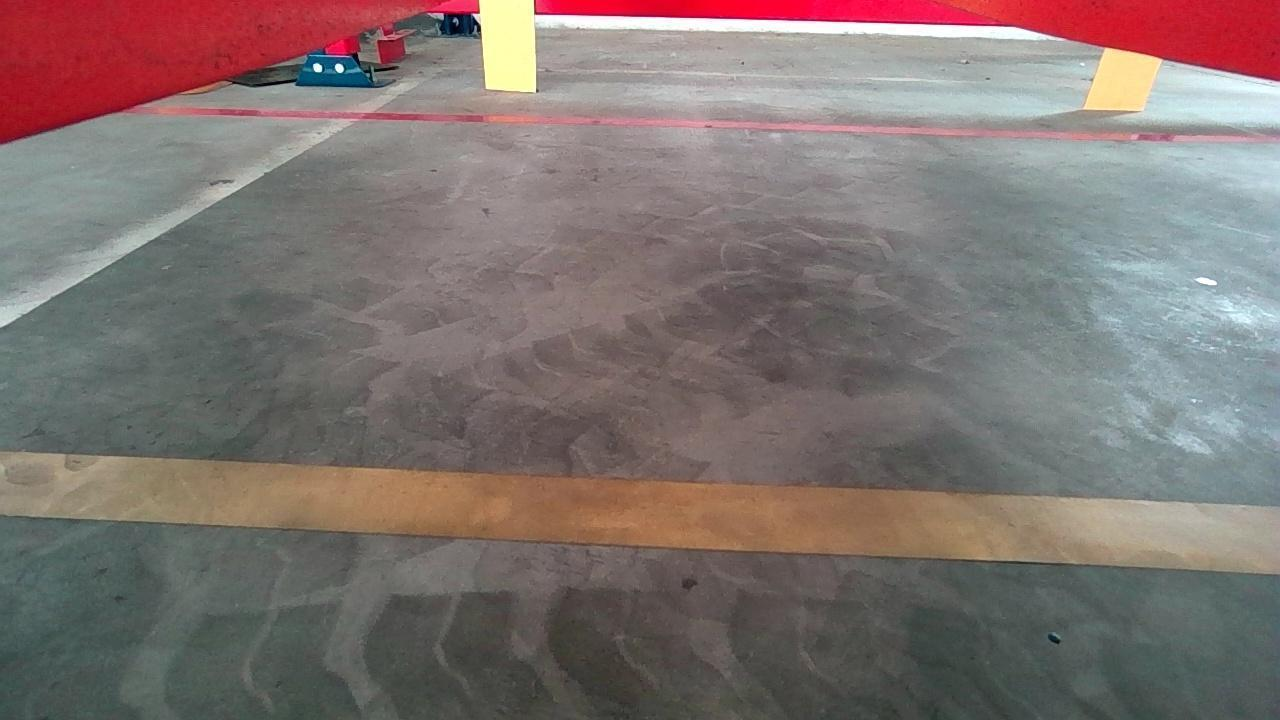red_line: (113, 104, 1280, 142)
yellow_line: (0, 450, 1280, 574)
